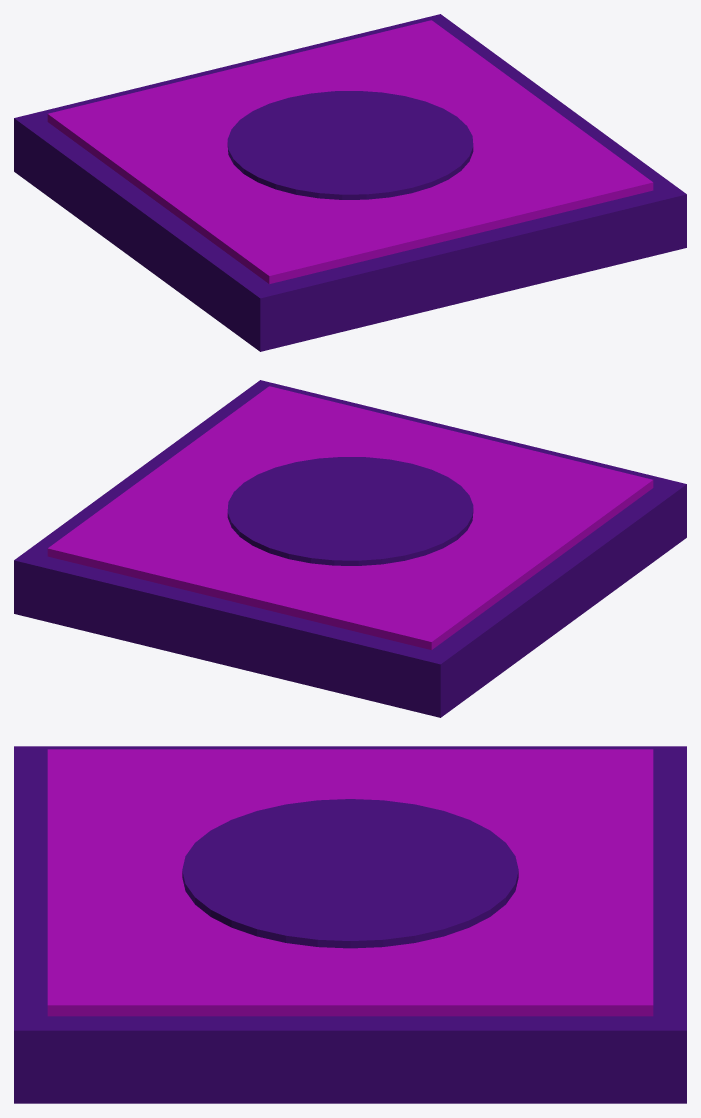
Rendered from CheckpointBase.fbx.
3 views of the same model, one above another, from view 1: azimuth 30°, elevation 25°; view 2: azimuth 150°, elevation 25°; view 3: azimuth 270°, elevation 25° (orthographic). The views are drawn at different scales.
Visible parts, largest first — view 1: Checkpoint; view 2: Checkpoint; view 3: Checkpoint.
Part boxes in pixels (x1,y1,x2,y2): Checkpoint: (14,14,686,351); Checkpoint: (14,380,686,717); Checkpoint: (14,746,686,1103).
Size of the model in its own units: 200 by 30 by 200.
Materials: 1 (1 with a texture image).
